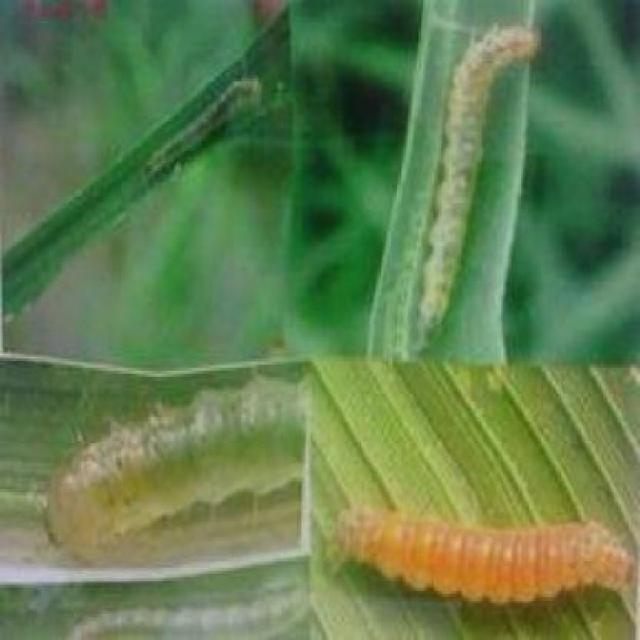leaf-folder: (378, 17, 550, 355), (330, 466, 628, 623), (44, 384, 298, 538), (143, 52, 271, 186), (59, 580, 312, 640)
